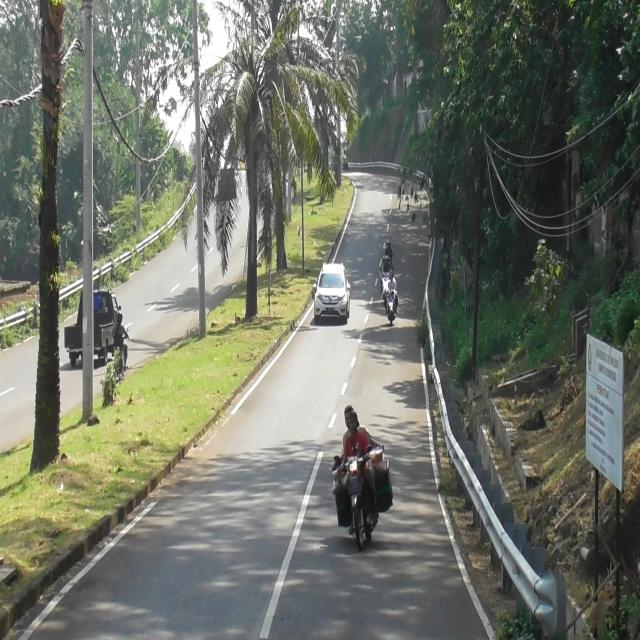motorcycle: (344, 459, 374, 552), (114, 335, 130, 374), (386, 290, 397, 326), (381, 270, 390, 293)
person: (341, 413, 371, 469), (112, 311, 129, 369), (342, 403, 354, 442), (384, 274, 396, 296), (386, 241, 394, 260), (384, 256, 391, 276), (382, 256, 386, 266)
rider_region: (333, 400, 393, 554), (111, 308, 129, 368), (387, 272, 398, 324), (380, 256, 390, 294)
